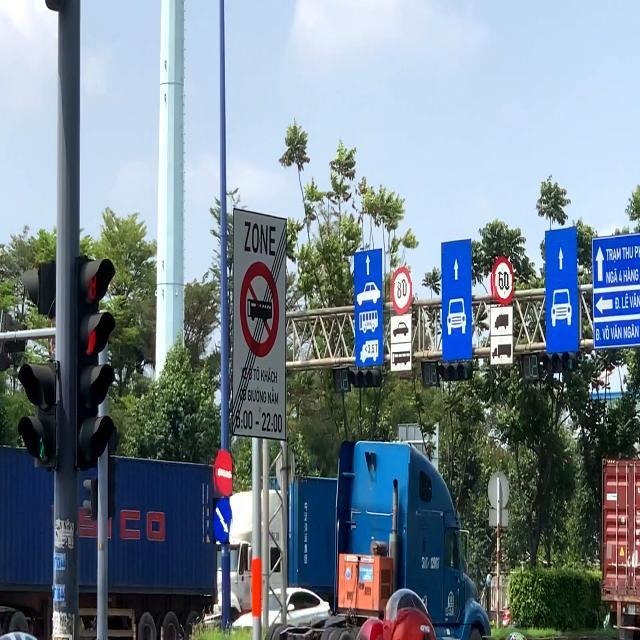P-102: (213, 449, 233, 497)
P-127: (490, 255, 513, 305), (390, 266, 412, 316)
R-302a: (213, 498, 233, 544)
